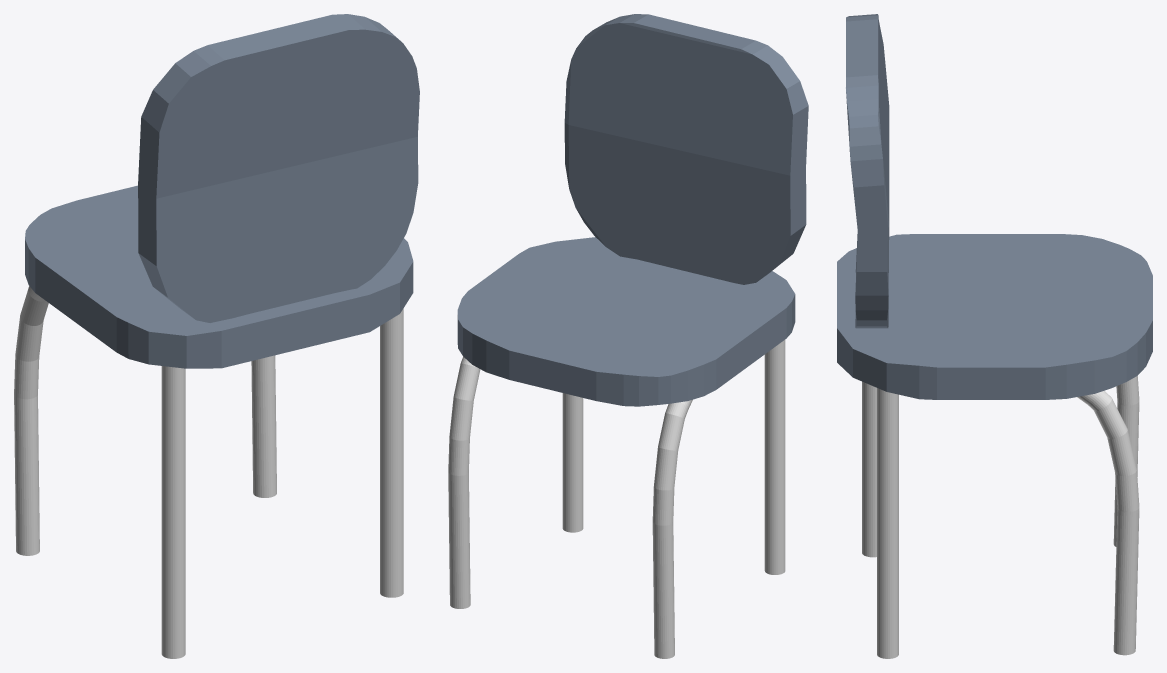
3 views of the same model, side by side, from view 1: azimuth 30°, elevation 25°; view 2: azimuth 150°, elevation 25°; view 3: azimuth 270°, elevation 25° (orthographic). The views are drawn at different scales.
Parts seen in each view (by area): view 1: Cube, Cube.001, Cylinder.002, Cylinder.003, Cylinder.001, Cylinder; view 2: Cube, Cube.001, Cylinder.001, Cylinder, Cylinder.002, Cylinder.003; view 3: Cube.001, Cube, Cylinder, Cylinder.003, Cylinder.002, Cylinder.001.
Boxes of the visible parts, left/top/right/bottom form: Cube: left=138, top=14, right=419, bottom=322; Cube.001: left=25, top=185, right=413, bottom=368; Cylinder.002: left=161, top=366, right=185, bottom=658; Cylinder.003: left=380, top=308, right=403, bottom=597; Cylinder.001: left=14, top=286, right=48, bottom=555; Cylinder: left=251, top=355, right=276, bottom=497; Cube: left=564, top=14, right=808, bottom=284; Cube.001: left=457, top=237, right=795, bottom=406; Cylinder.001: left=652, top=399, right=692, bottom=658; Cylinder: left=448, top=356, right=480, bottom=608; Cylinder.002: left=764, top=340, right=785, bottom=574; Cylinder.003: left=562, top=393, right=583, bottom=532; Cube.001: left=837, top=234, right=1152, bottom=399; Cube: left=846, top=14, right=889, bottom=328; Cylinder: left=1077, top=390, right=1139, bottom=655; Cylinder.003: left=877, top=388, right=898, bottom=658; Cylinder.002: left=862, top=381, right=876, bottom=557; Cylinder.001: left=1113, top=376, right=1139, bottom=546.
Bounding box in the file's own units: 200 × 384 × 200.
